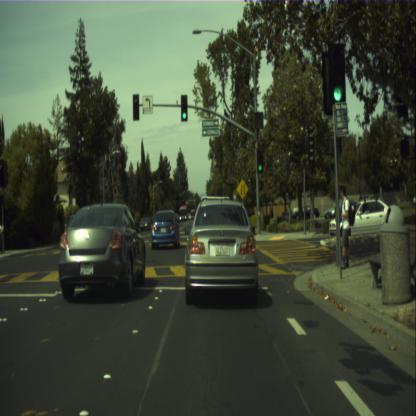Green: (328, 44, 346, 112), (180, 95, 188, 121), (256, 148, 263, 172)
RedLeft: (132, 93, 139, 119), (0, 162, 3, 186)
